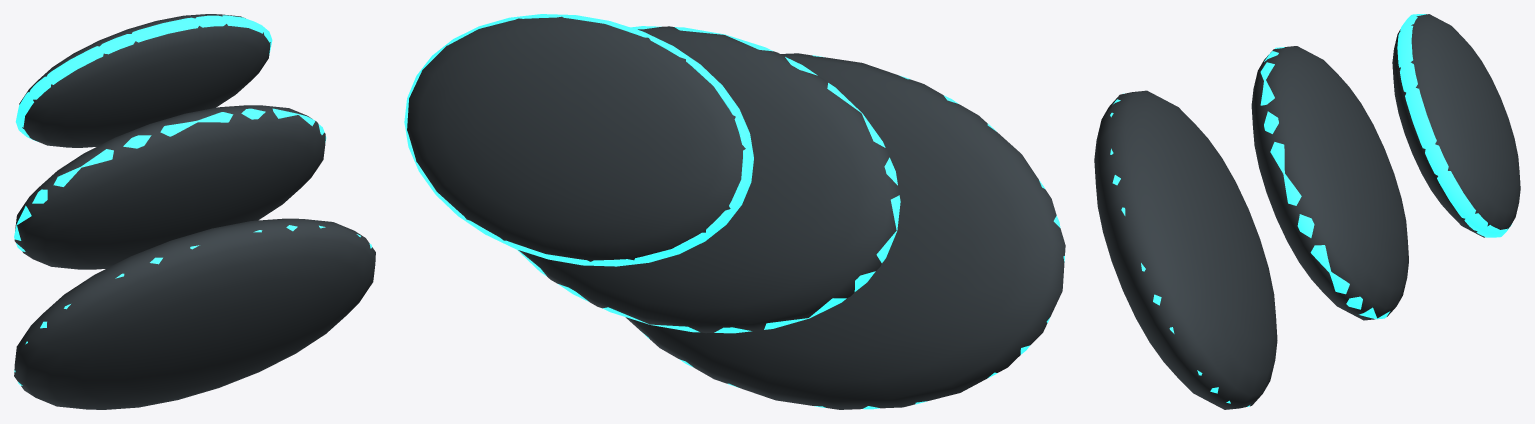
The model's file is res_chitin_plate.glb.
The picture shows the model from 3 angles, left to right: view 1: azimuth 30°, elevation 25°; view 2: azimuth 150°, elevation 25°; view 3: azimuth 270°, elevation 25°; orthographic projection. The views are drawn at different scales.
Visible parts, largest first — view 1: res_chitin_plate; view 2: res_chitin_plate; view 3: res_chitin_plate.
Boxes of the visible parts, x1,y1,x2,y2 form: res_chitin_plate: (14,14,375,409); res_chitin_plate: (404,14,1065,409); res_chitin_plate: (1094,14,1520,409).
Bounding box in the file's own units: 0.2061 × 0.1656 × 0.1733.
